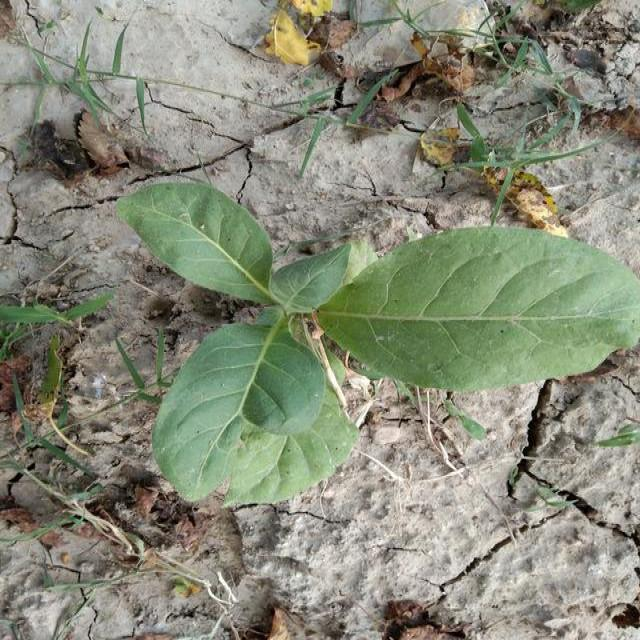crop: (114, 181, 640, 510)
